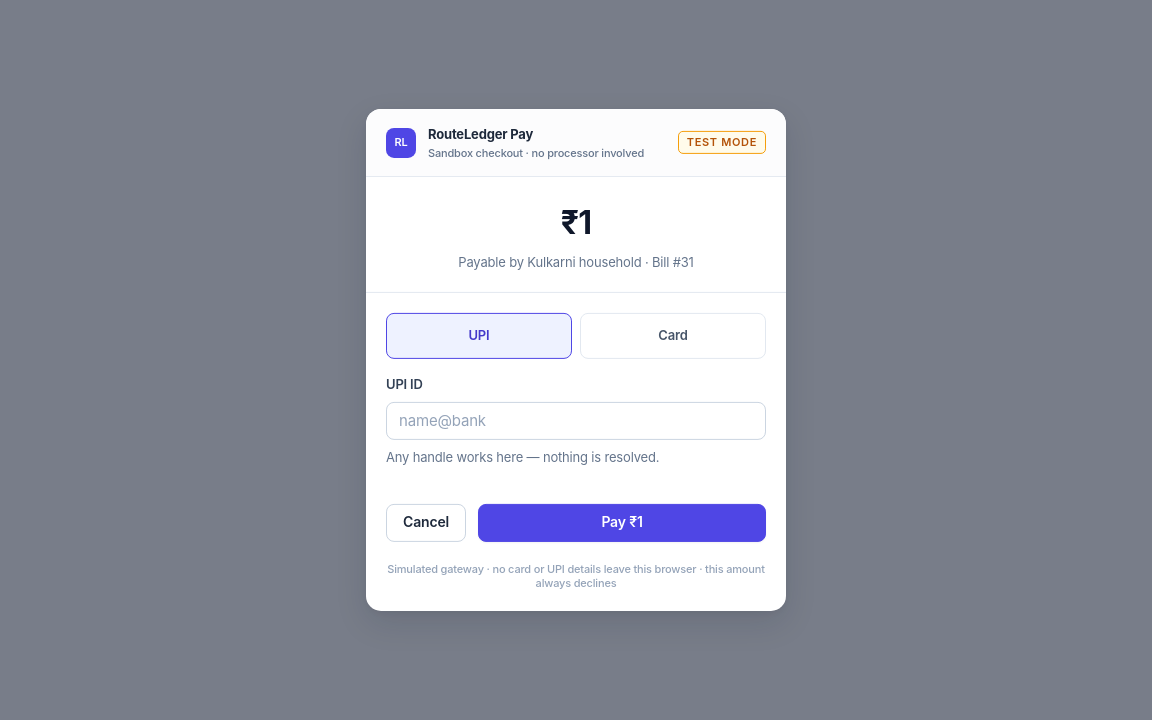
components/PaymentGatewaySimulator.jsx › declines the ₹1 test amount and writes nothing to the ledger
The width and height of the screenshot is (1152, 720).
Type "kulkarni@okaxis" into the field labelled "UPI ID Any handle works here — nothing is resolved." at point(576, 421), box [386,402,766,440]
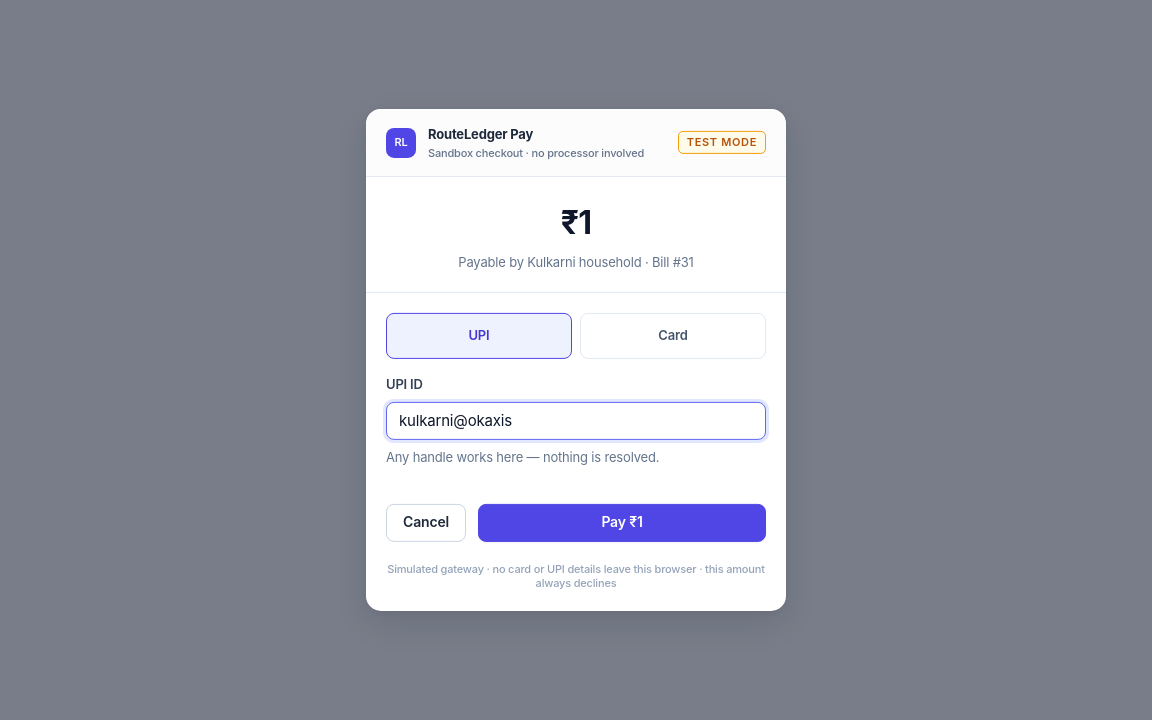
Click the button "Pay ₹1" at point(622, 522), box [478,503,766,541]
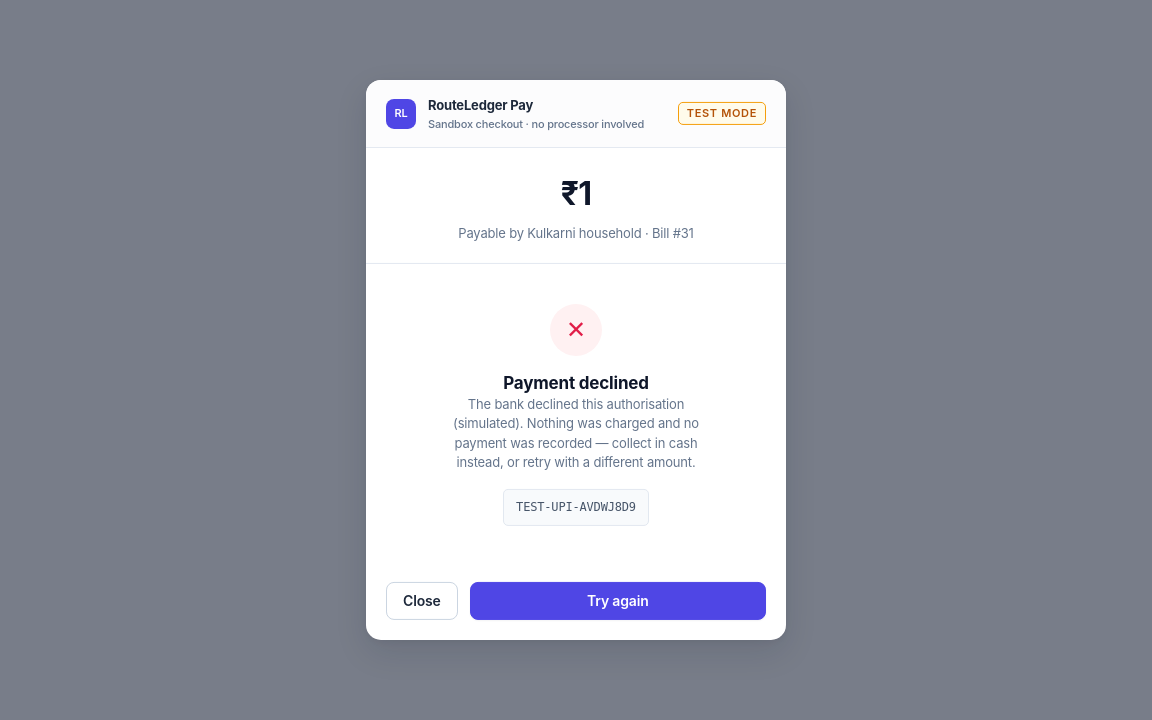
Check: the text "Payment declined" is shown, box [503,373,649,393]
Check: the button "Try again" is shown, box [470,582,766,620]
